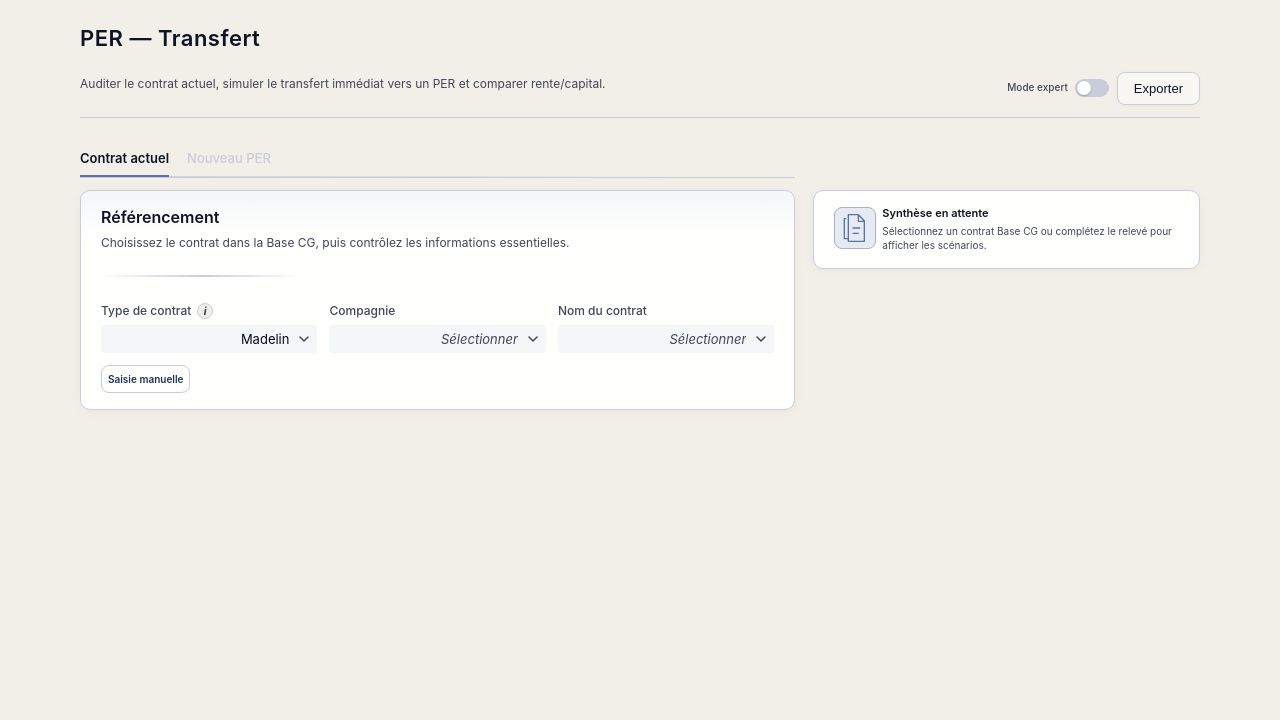
Test case: PerTransfertSimulator › guide l’arrivée avec le référencement seul avant de révéler les détails
The width and height of the screenshot is (1280, 720).
Expected: the heading "Référencement" is shown, [101,207,219,227]
Expected: the text "Relevé de situation" is not shown
Click the button "Saisie manuelle": (146, 379) [101,365,190,393]
(page scrolled)
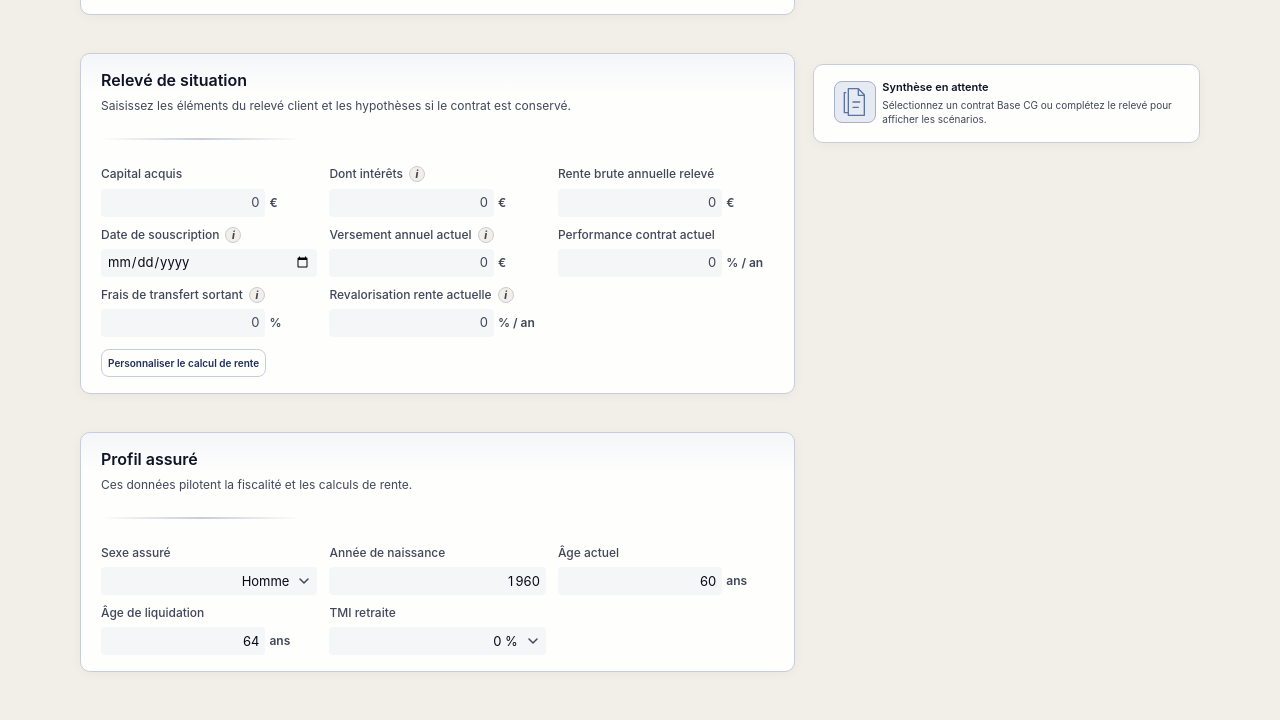
Expected: the heading "Relevé de situation" is shown, [101,70,247,90]
Expected: the heading "Profil assuré" is shown, [101,449,198,469]
